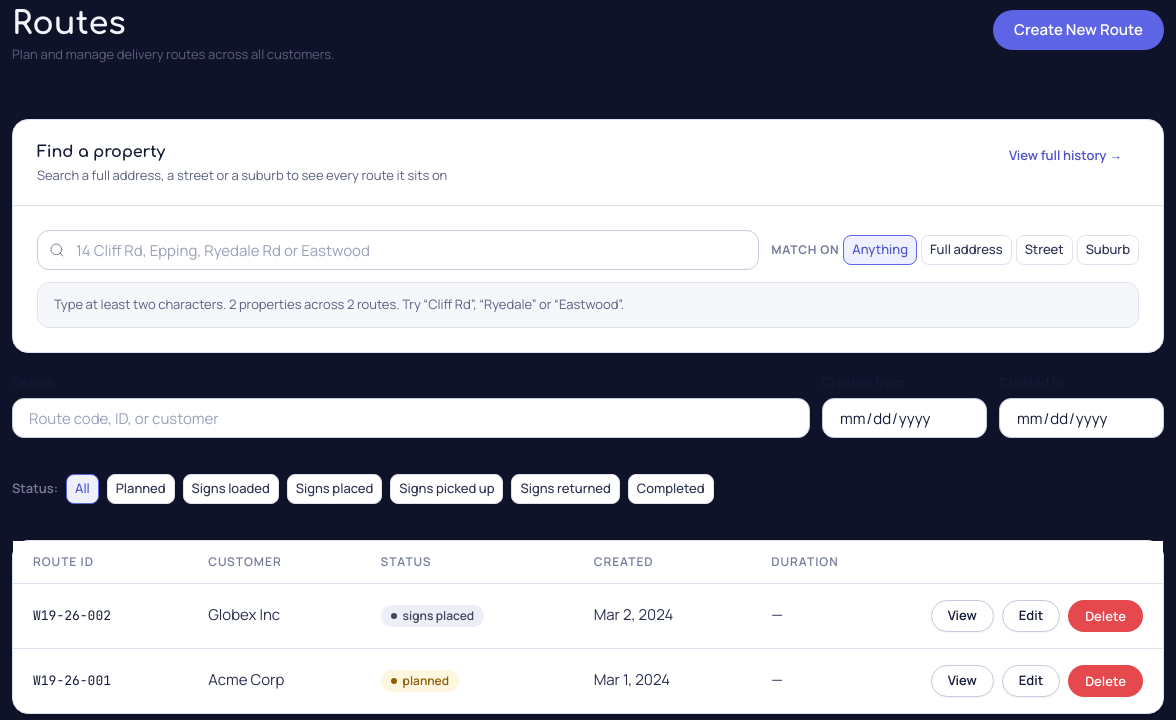
Test: Operator Routes List Page › keeps the status filter visible when a filtered status has no routes
Expected: the text "W19-26-001" is shown, [33,672,111,690]
Click the button "Signs picked up" at (447, 489), box [390,474,504,504]
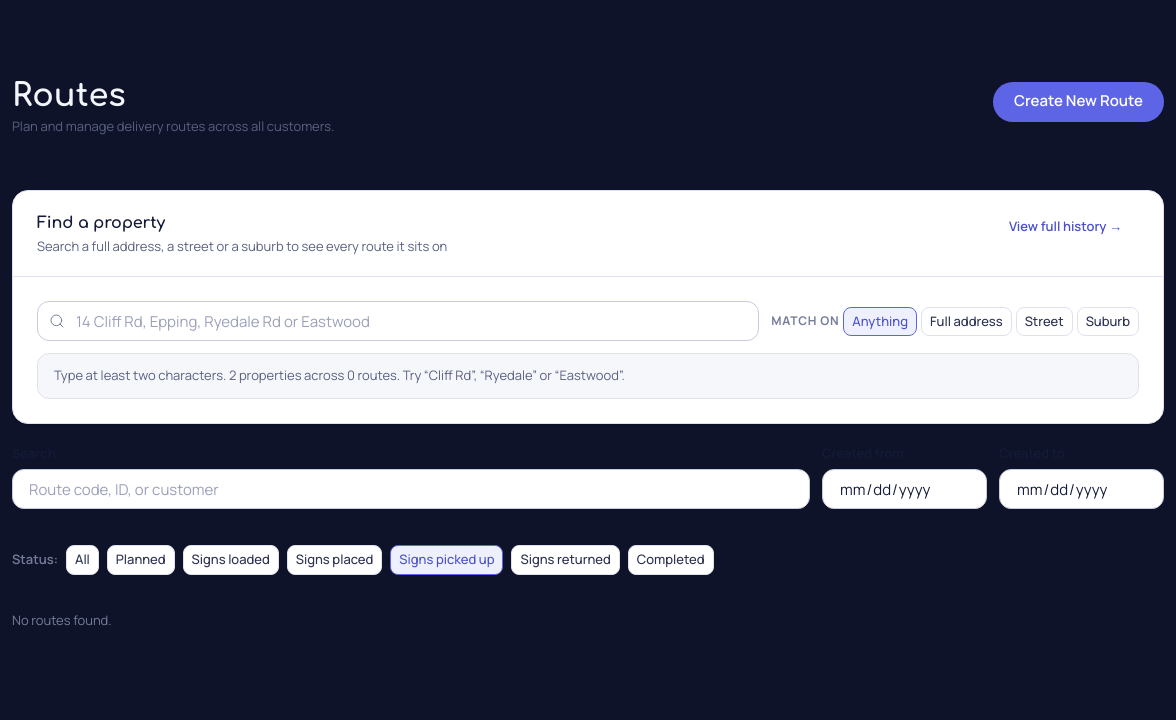
Expected: the button "All" is shown, [66,546,99,575]
Result: the text "No routes found." is shown at [12,611,112,629]
